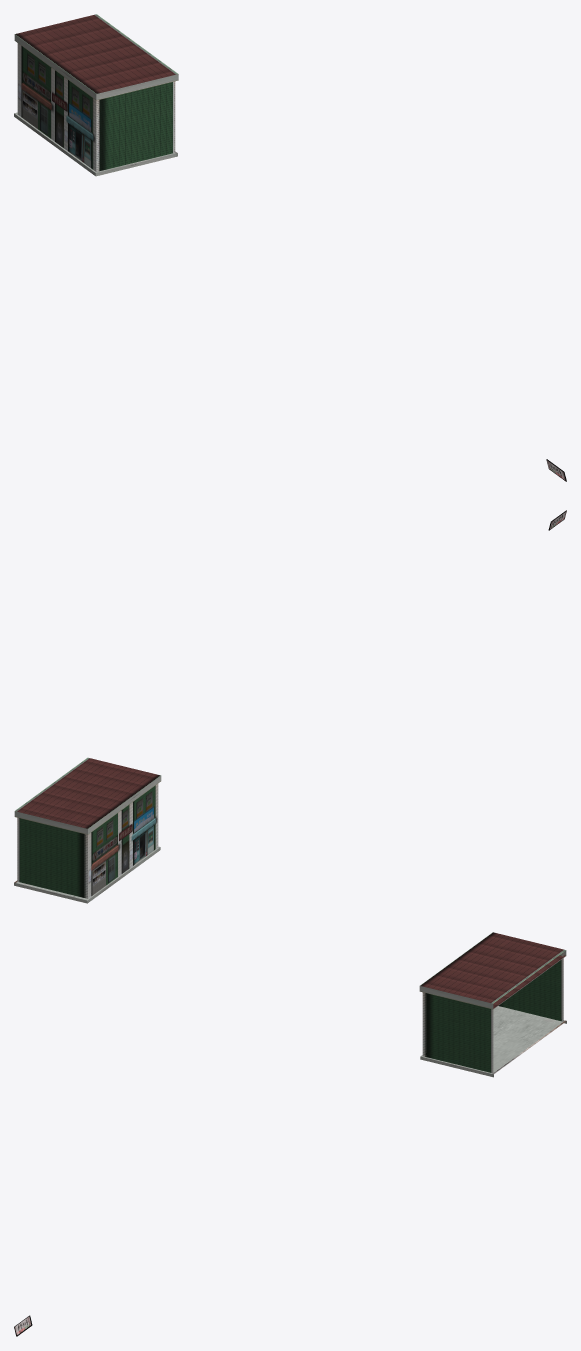
The model's file is dabang.FBX.
3 renders of one model, top to bottom at view 1: azimuth 30°, elevation 25°; view 2: azimuth 150°, elevation 25°; view 3: azimuth 330°, elevation 25°, orthographic. The views are drawn at different scales.
Parts seen in each view (by area): view 1: polySurface68, polySurface74, polySurface71; view 2: polySurface68, polySurface74, polySurface71; view 3: polySurface68, polySurface74, polySurface71.
Part boxes in pixels (x1,y1,x2,y2): polySurface68: (17, 43, 175, 171); polySurface74: (14, 14, 178, 100); polySurface71: (14, 112, 177, 176); polySurface68: (17, 784, 158, 898); polySurface74: (14, 757, 161, 834); polySurface71: (14, 846, 160, 903); polySurface68: (422, 952, 563, 1073); polySurface74: (419, 932, 566, 1009); polySurface71: (420, 1006, 566, 1077).
Bounding box in the file's own units: 31.16 × 30.05 × 357.
Materials: 4 (4 with a texture image).
